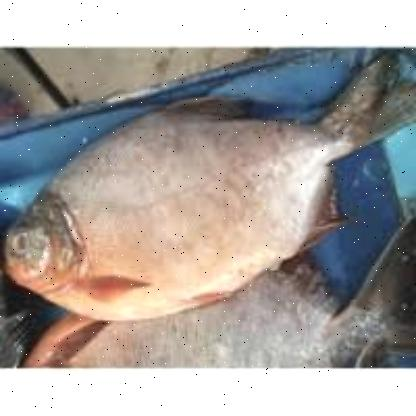ikan-pacu: (2, 86, 366, 312)
